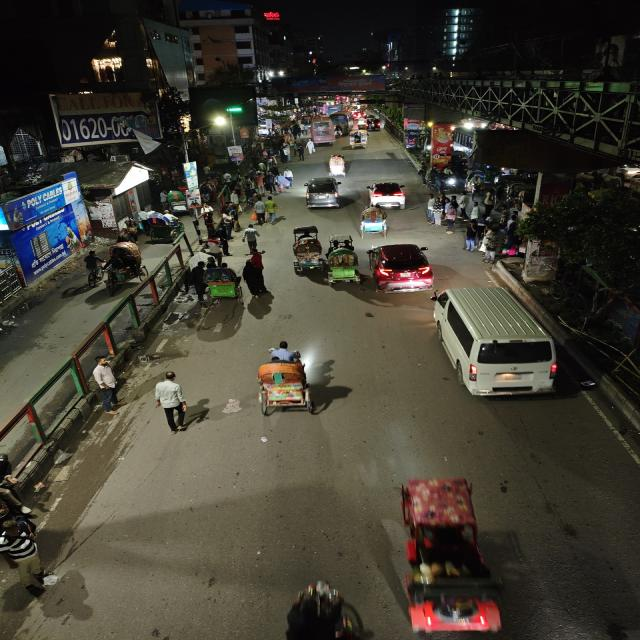bicycle: (82, 250, 102, 286)
bus: (0, 178, 73, 230), (309, 120, 338, 147)
car: (426, 282, 562, 402), (365, 240, 436, 296), (302, 176, 344, 210), (364, 180, 410, 210)
human_hauler: (345, 131, 372, 151)
pedestrian: (150, 369, 190, 434), (88, 358, 125, 413), (240, 250, 269, 298), (202, 233, 225, 266), (441, 199, 461, 234), (461, 222, 483, 252), (240, 223, 261, 253), (423, 193, 441, 224), (217, 201, 240, 225), (263, 196, 277, 225), (253, 172, 265, 193), (265, 170, 275, 192), (294, 144, 306, 162), (276, 172, 286, 192), (306, 139, 315, 154)
rickshaw: (385, 469, 513, 639), (244, 342, 331, 418), (103, 241, 147, 296), (287, 224, 324, 273), (201, 262, 244, 304), (324, 248, 362, 287), (146, 213, 188, 241), (357, 204, 391, 238), (323, 153, 348, 177)
